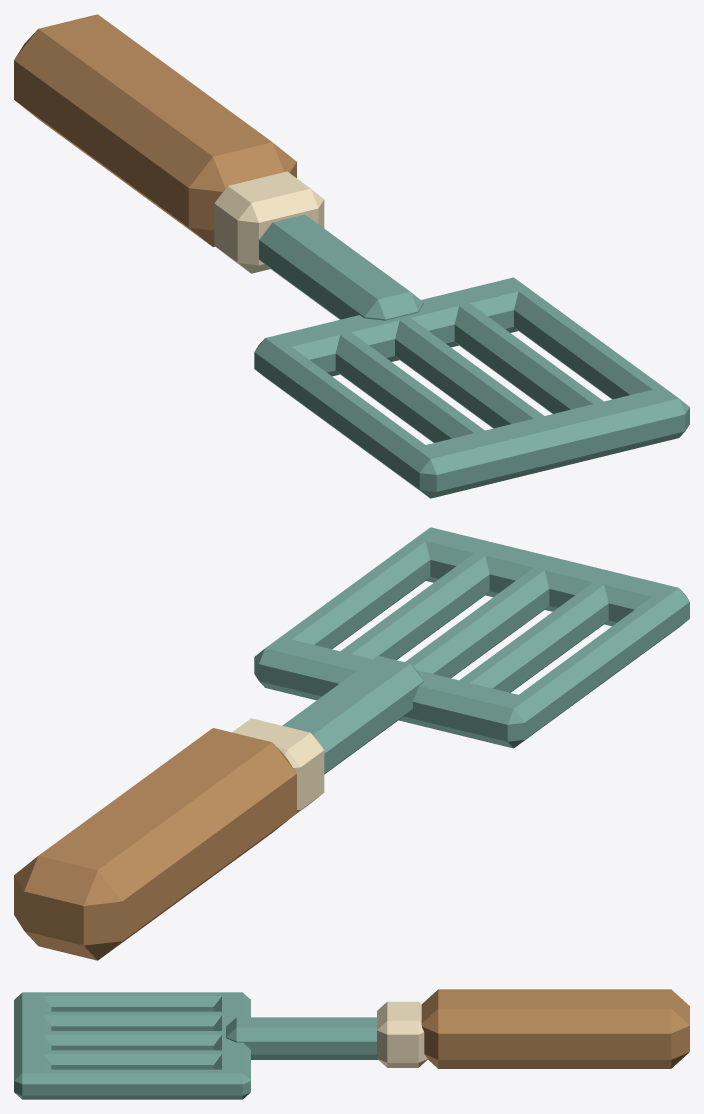
The picture shows the model from 3 angles, top to bottom: view 1: azimuth 30°, elevation 25°; view 2: azimuth 150°, elevation 25°; view 3: azimuth 270°, elevation 25°; orthographic projection. The views are drawn at different scales.
Parts seen in each view (by area): view 1: kitchen-slotted-spatula-01; view 2: kitchen-slotted-spatula-01; view 3: kitchen-slotted-spatula-01.
Part boxes in pixels (<box>): kitchen-slotted-spatula-01: <box>14,14,689,498</box>; kitchen-slotted-spatula-01: <box>14,527,689,960</box>; kitchen-slotted-spatula-01: <box>14,989,689,1099</box>.
Bounding box in the file's own units: 0.1 × 0.032 × 0.325.
